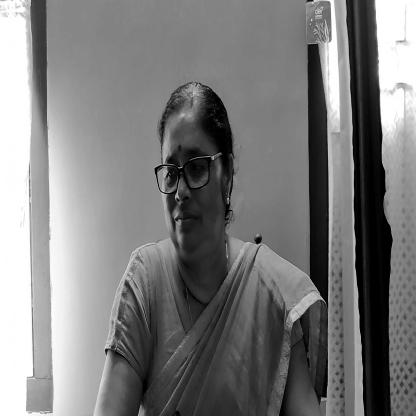Distracted: (158, 86, 235, 262)
